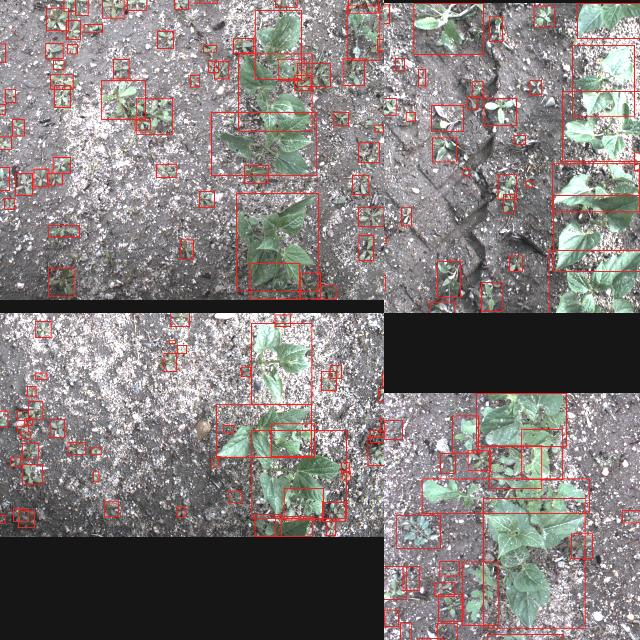crop: (484, 498, 584, 628), (252, 430, 346, 518), (236, 193, 318, 291), (553, 195, 640, 271), (212, 112, 316, 174), (549, 249, 640, 313), (238, 53, 312, 131), (562, 91, 640, 161), (250, 322, 312, 403), (216, 404, 312, 456), (476, 392, 566, 446), (572, 44, 634, 116), (552, 163, 640, 211), (414, 2, 484, 54), (254, 10, 302, 78), (577, 2, 640, 37), (522, 428, 562, 478), (250, 263, 300, 299), (431, 105, 463, 131), (438, 261, 460, 297), (276, 516, 312, 536), (432, 137, 456, 161), (490, 15, 502, 40)
weed: (422, 478, 590, 512), (462, 561, 498, 625), (490, 444, 542, 488), (346, 5, 379, 60), (101, 80, 145, 118), (396, 514, 440, 548), (271, 424, 315, 456), (137, 98, 173, 134), (284, 488, 324, 520), (453, 414, 479, 452), (484, 97, 516, 125), (298, 62, 330, 86), (48, 268, 74, 296), (384, 565, 406, 598), (438, 594, 464, 620), (482, 282, 502, 312), (278, 59, 306, 80), (343, 58, 365, 84), (255, 514, 281, 536), (300, 273, 320, 299), (572, 532, 592, 558), (46, 7, 68, 30), (367, 436, 384, 465), (358, 208, 384, 226), (498, 174, 516, 200), (534, 4, 554, 26), (468, 450, 490, 470), (244, 165, 268, 183), (322, 502, 346, 520), (402, 566, 420, 590), (358, 142, 379, 162), (358, 234, 374, 260), (22, 464, 42, 484), (15, 173, 32, 195), (102, 0, 124, 17), (49, 225, 80, 237), (348, 0, 378, 12), (384, 419, 402, 439), (54, 85, 70, 107), (352, 174, 370, 193), (437, 623, 457, 640), (28, 400, 44, 420), (440, 453, 456, 473), (440, 560, 460, 576), (51, 74, 73, 88), (157, 30, 173, 48), (214, 60, 230, 78), (18, 510, 34, 528), (114, 58, 128, 78), (234, 38, 254, 52), (434, 582, 454, 596), (429, 302, 454, 313), (318, 285, 337, 299), (322, 372, 336, 391), (180, 239, 193, 259), (46, 42, 62, 58), (54, 157, 70, 173), (295, 74, 311, 90), (35, 321, 51, 337), (22, 443, 38, 459), (66, 20, 80, 38), (34, 168, 48, 186), (156, 164, 177, 176), (50, 419, 64, 437), (170, 313, 189, 325), (200, 191, 214, 207), (384, 610, 398, 626), (12, 118, 24, 136), (164, 353, 176, 371), (622, 510, 640, 522), (0, 166, 9, 189), (384, 97, 396, 114), (127, 0, 147, 10), (334, 111, 348, 125), (104, 502, 118, 516), (14, 508, 28, 522), (510, 255, 522, 271), (530, 78, 542, 94), (68, 442, 84, 454), (275, 314, 291, 326), (75, 0, 88, 14), (402, 207, 412, 225), (504, 194, 514, 212), (369, 430, 384, 442), (401, 622, 411, 640), (48, 172, 62, 184), (228, 490, 242, 502), (472, 80, 482, 96), (331, 364, 342, 378), (84, 23, 102, 31), (0, 135, 11, 148), (136, 119, 150, 129), (6, 88, 16, 102), (326, 521, 336, 535), (468, 95, 478, 108), (418, 69, 426, 85), (64, 0, 76, 10), (66, 43, 78, 53), (209, 60, 219, 72), (190, 74, 200, 86), (514, 134, 526, 144), (384, 3, 390, 23), (0, 410, 8, 425), (174, 0, 188, 8), (4, 198, 15, 208), (17, 410, 28, 420), (634, 152, 640, 170), (54, 59, 64, 69), (340, 462, 350, 472), (241, 366, 251, 376), (396, 57, 404, 69), (35, 372, 47, 380), (0, 42, 5, 61), (10, 458, 20, 467), (204, 44, 216, 51), (406, 112, 416, 120), (28, 386, 36, 396), (342, 470, 350, 480), (223, 425, 233, 433), (378, 388, 384, 401), (377, 38, 384, 49), (178, 507, 185, 518), (23, 418, 32, 426), (374, 125, 384, 132), (17, 425, 28, 431), (178, 345, 186, 353), (0, 104, 6, 114), (93, 471, 99, 481), (212, 458, 218, 468), (91, 448, 101, 454), (20, 432, 30, 438), (380, 418, 384, 433), (463, 168, 469, 176), (0, 515, 5, 523), (526, 181, 532, 187), (382, 372, 384, 385), (384, 235, 386, 243), (169, 340, 175, 342)
